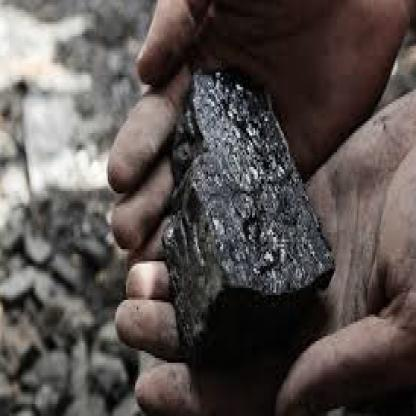Sedimentary_coal: (167, 60, 337, 375)
